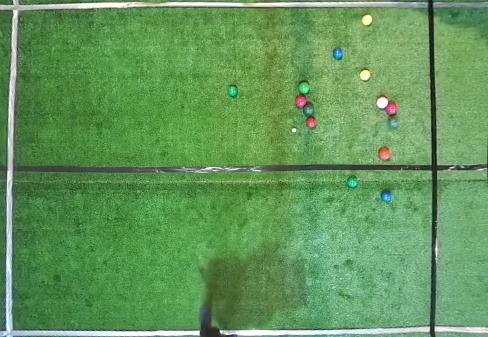blue: (332, 48, 343, 60), (381, 191, 391, 202)
green: (298, 81, 310, 94), (303, 104, 315, 116), (346, 176, 358, 188), (387, 117, 399, 129), (228, 85, 238, 96)
red: (378, 147, 391, 161), (385, 102, 398, 115), (295, 95, 307, 108), (376, 96, 388, 109), (306, 117, 316, 128)
vline: (427, 0, 487, 336), (0, 0, 21, 336)
white: (292, 128, 297, 133)
yellow: (359, 69, 371, 81), (361, 14, 373, 26)
